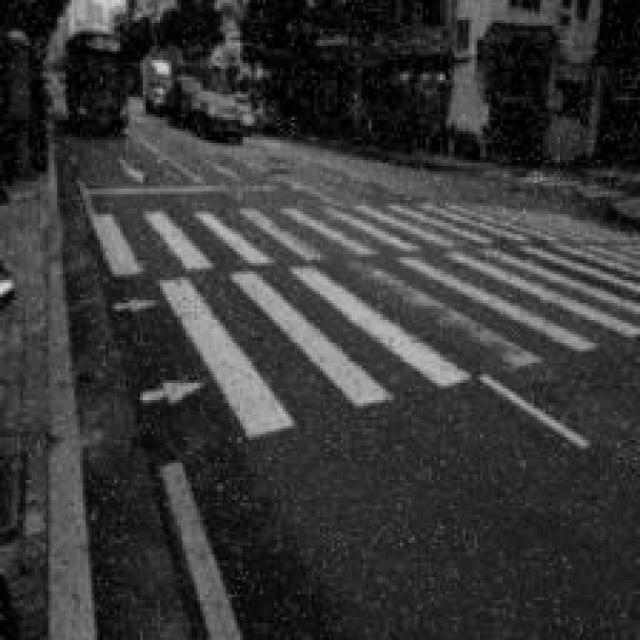walk-crossing: (85, 204, 640, 444)
